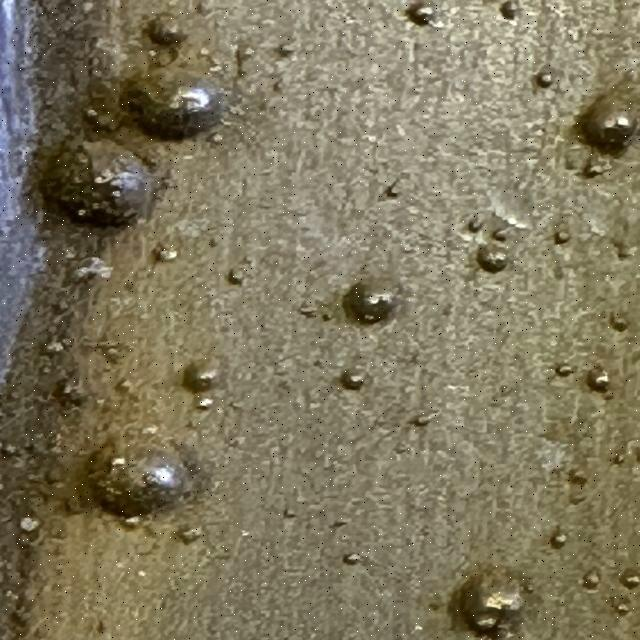Spatters: (48, 142, 156, 230), (87, 443, 190, 517), (124, 69, 221, 140), (462, 577, 526, 640), (576, 94, 637, 158), (343, 282, 397, 327), (66, 257, 115, 286), (149, 13, 186, 46), (186, 365, 222, 392), (478, 246, 509, 274), (406, 2, 436, 27), (495, 217, 525, 240), (587, 367, 611, 393), (342, 371, 369, 393), (413, 411, 442, 426), (180, 528, 205, 545), (19, 518, 45, 533), (502, 0, 521, 20), (158, 248, 180, 262), (42, 340, 65, 353), (121, 517, 147, 528), (194, 398, 216, 411), (228, 269, 245, 284), (340, 553, 361, 565), (537, 73, 554, 87), (208, 132, 225, 145), (1, 442, 18, 455), (620, 575, 640, 586), (587, 574, 601, 589), (115, 380, 133, 391), (557, 232, 571, 246), (553, 535, 568, 548), (283, 508, 300, 518), (279, 44, 299, 52), (556, 365, 573, 373), (86, 108, 99, 117), (616, 604, 632, 611), (589, 168, 601, 177), (300, 306, 318, 312), (614, 454, 625, 463), (273, 81, 284, 90), (322, 313, 333, 322), (42, 366, 53, 374), (210, 237, 217, 249)
